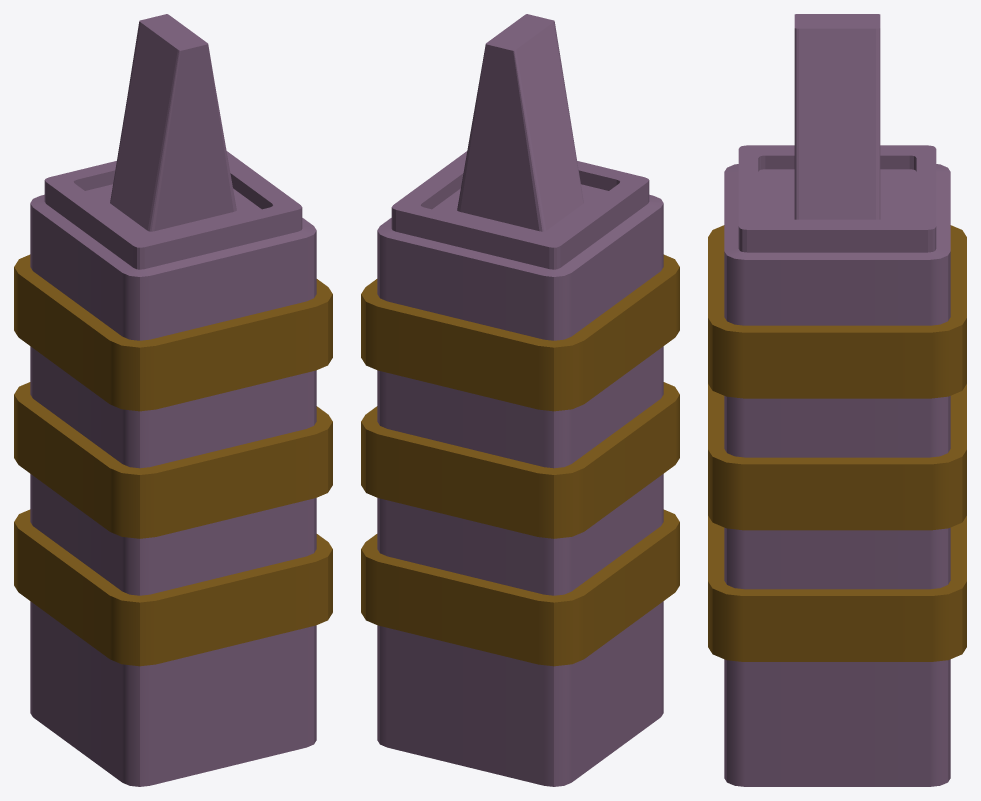
3 renders of one model, left to right at view 1: azimuth 30°, elevation 25°; view 2: azimuth 150°, elevation 25°; view 3: azimuth 270°, elevation 25°, orthographic. The views are drawn at different scales.
Visible parts, largest first — view 1: B13_New; view 2: B13_New; view 3: B13_New.
Part boxes in pixels (x1=…): B13_New: x1=14, y1=14, x2=332, y2=786; B13_New: x1=361, y1=14, x2=679, y2=786; B13_New: x1=708, y1=14, x2=966, y2=786.
Size of the model in its own units: 18.71 by 56.73 by 18.55.
